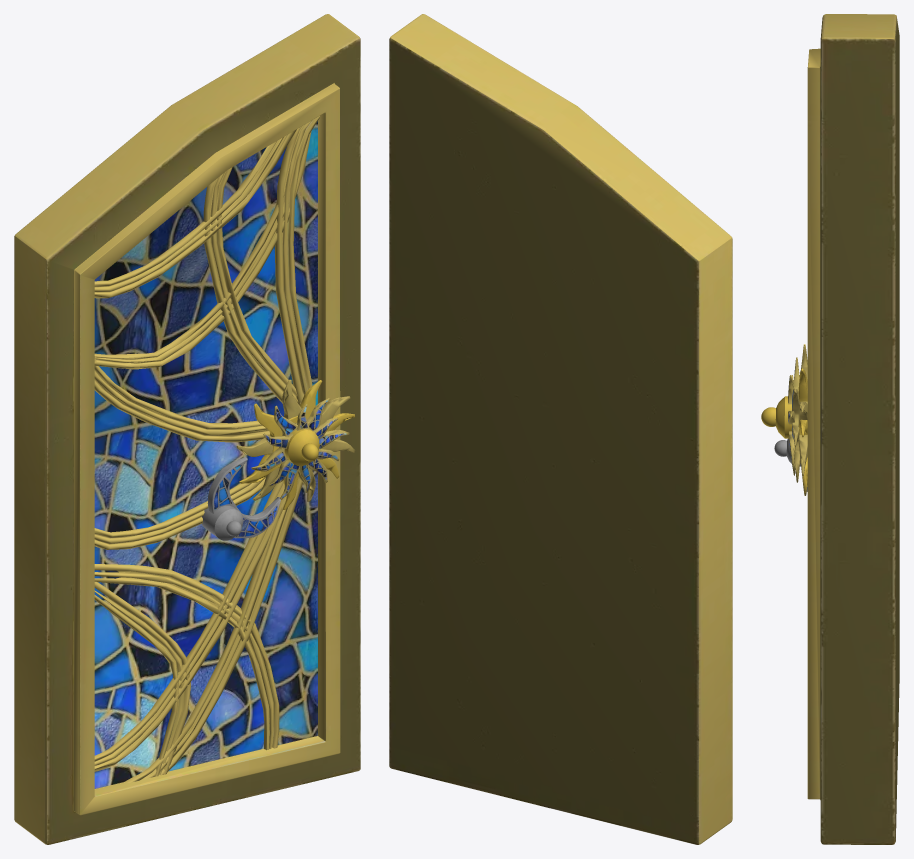
Rendered from doorLeft_lowPoly.glb.
The picture shows the model from 3 angles, left to right: view 1: azimuth 30°, elevation 25°; view 2: azimuth 150°, elevation 25°; view 3: azimuth 270°, elevation 25°; orthographic projection. The views are drawn at different scales.
Parts seen in each view (by area): view 1: polySurface15.001; view 2: polySurface15.001; view 3: polySurface15.001.
Part boxes in pixels (box(x1,y1,x2,y2)): polySurface15.001: box(14, 14, 360, 844); polySurface15.001: box(389, 14, 732, 844); polySurface15.001: box(761, 14, 899, 844).
Bounding box in the file's own units: 0.1101 × 0.2457 × 0.0382.
Materials: 4 (4 with a texture image).
